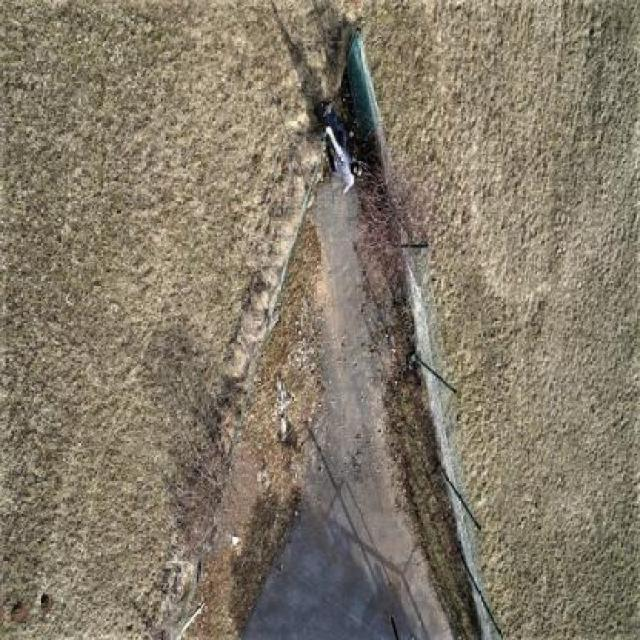Person: (315, 95, 363, 202)
